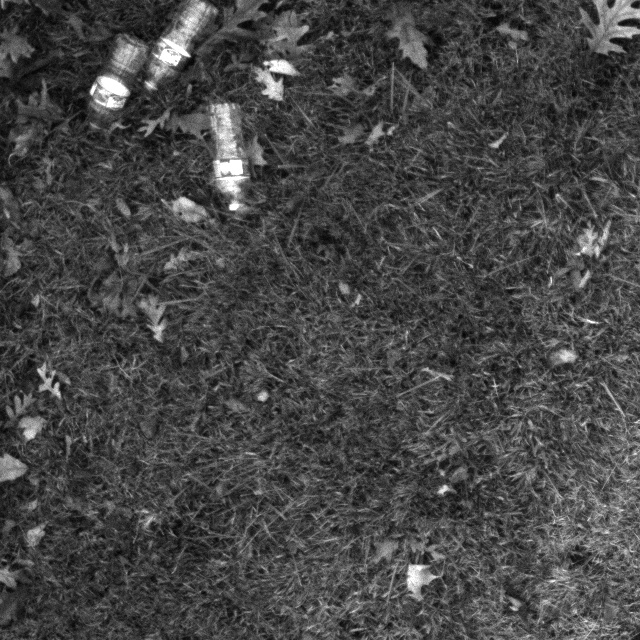bottle: (193, 89, 262, 223), (69, 31, 152, 140), (137, 0, 221, 99)
